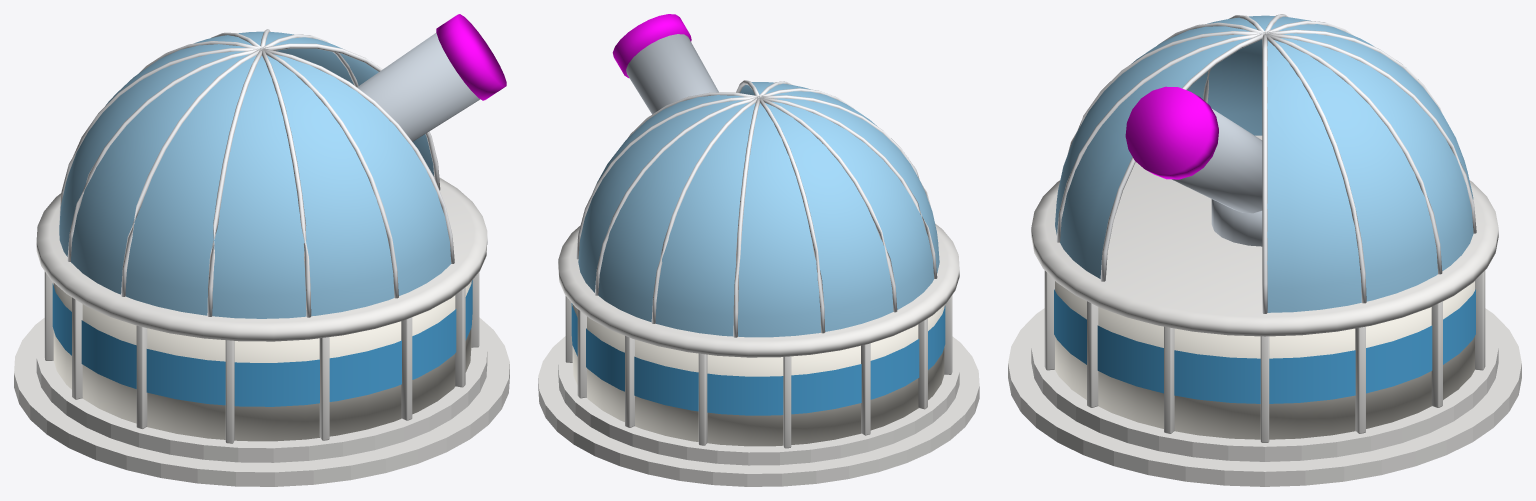
Rendered from observatory.glb.
3 views of the same model, side by side, from view 1: azimuth 30°, elevation 25°; view 2: azimuth 150°, elevation 25°; view 3: azimuth 270°, elevation 25° (orthographic). The views are drawn at different scales.
Parts seen in each view (by area): view 1: observatory; view 2: observatory; view 3: observatory.
Part boxes in pixels (box(x1,y1,x2,y2)): observatory: box(14, 14, 509, 486); observatory: box(538, 14, 979, 486); observatory: box(1008, 14, 1521, 486).
Size of the model in its own units: 15.4 by 12.2 by 15.4.
